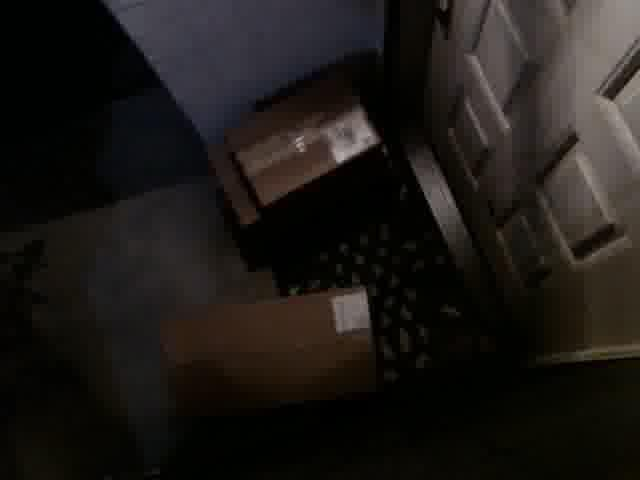box: (203, 74, 383, 260), (164, 282, 379, 429), (230, 87, 389, 209)
